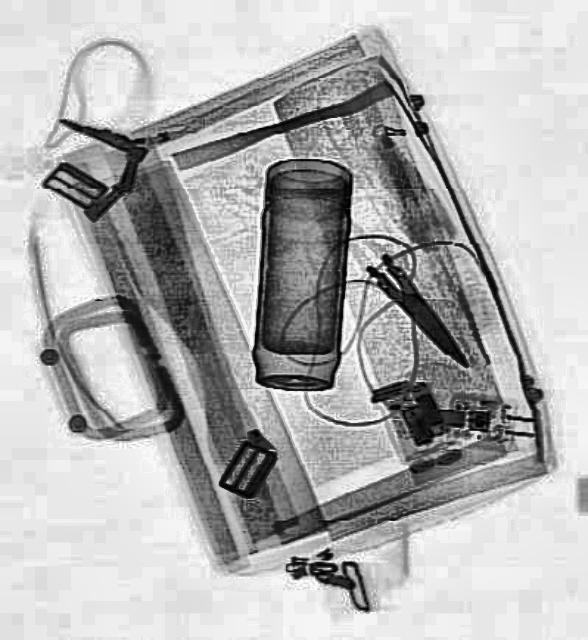Knife: (359, 244, 477, 376)
